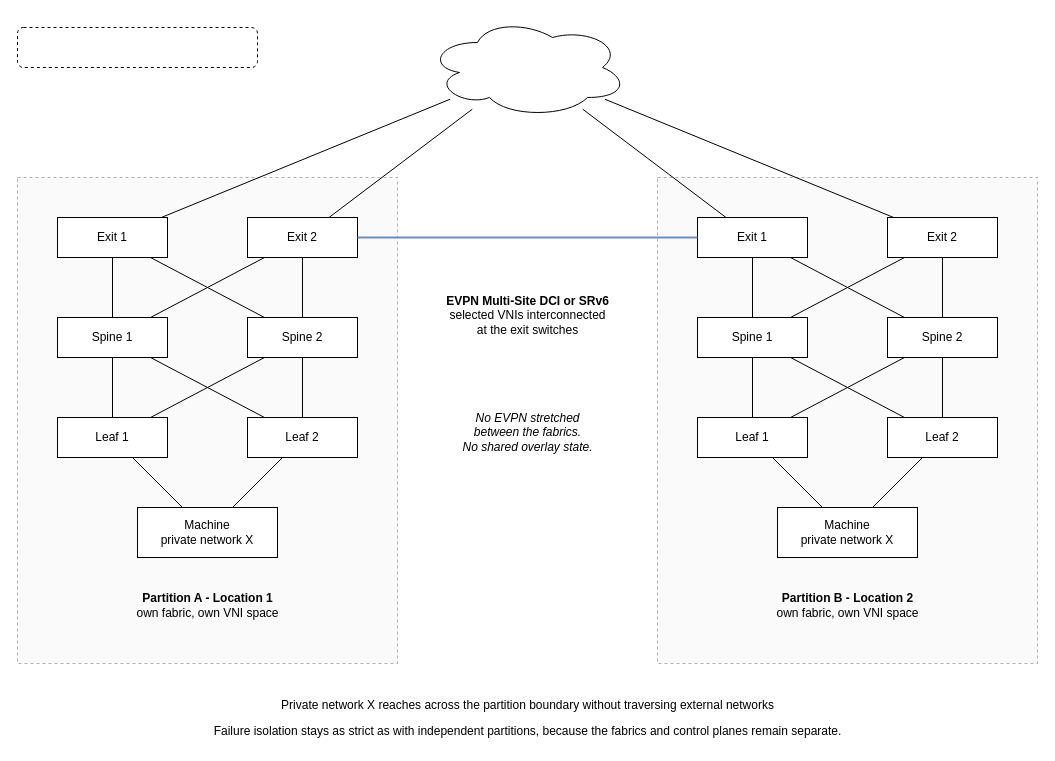
This 1055x761 diagram has some shape labels left out. Here are the shapes that lost their labels. From the top down, the box of each, then its label:
(16, 26, 258, 68): Roadmap - not yet implemented
(426, 16, 628, 118): External routing domain (Layer 3)
